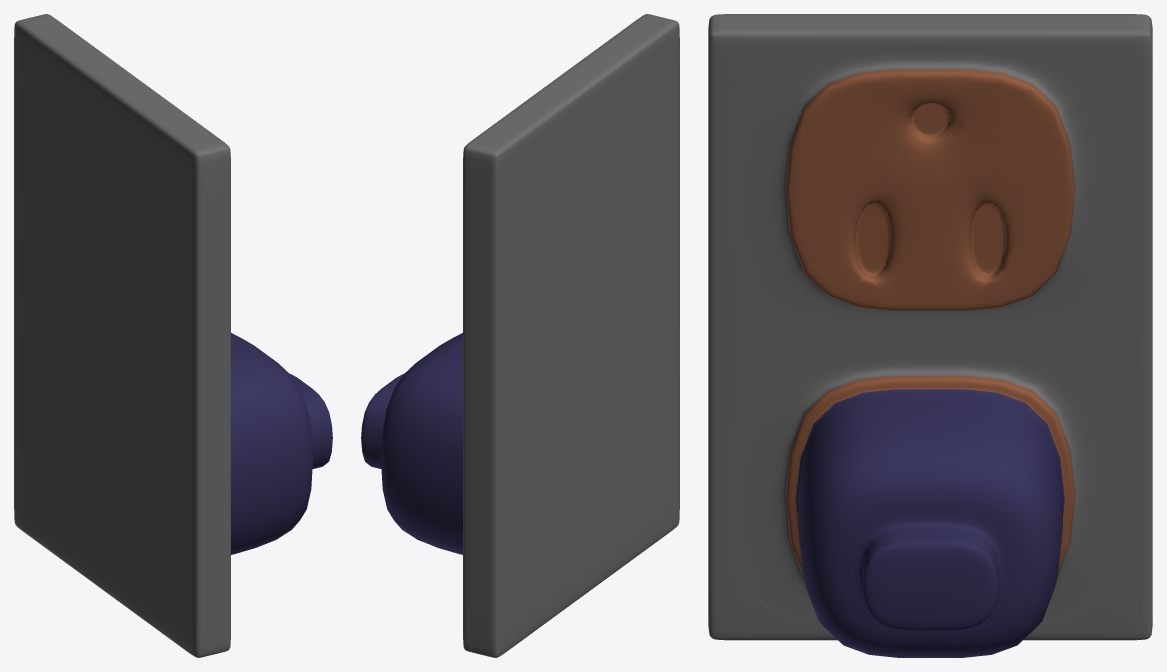
File: OutletPlug.fbx
3 views of the same model, side by side, from view 1: azimuth 30°, elevation 25°; view 2: azimuth 150°, elevation 25°; view 3: azimuth 270°, elevation 25° (orthographic). The views are drawn at different scales.
Parts seen in each view (by area): view 1: pCube316; view 2: pCube316; view 3: pCube316.
Boxes of the visible parts, x1=… form: pCube316: x1=14, y1=14, x2=332, y2=657; pCube316: x1=361, y1=14, x2=679, y2=657; pCube316: x1=708, y1=14, x2=1152, y2=657.
Size of the model in its own units: 9.33 by 22.16 by 14.65.
